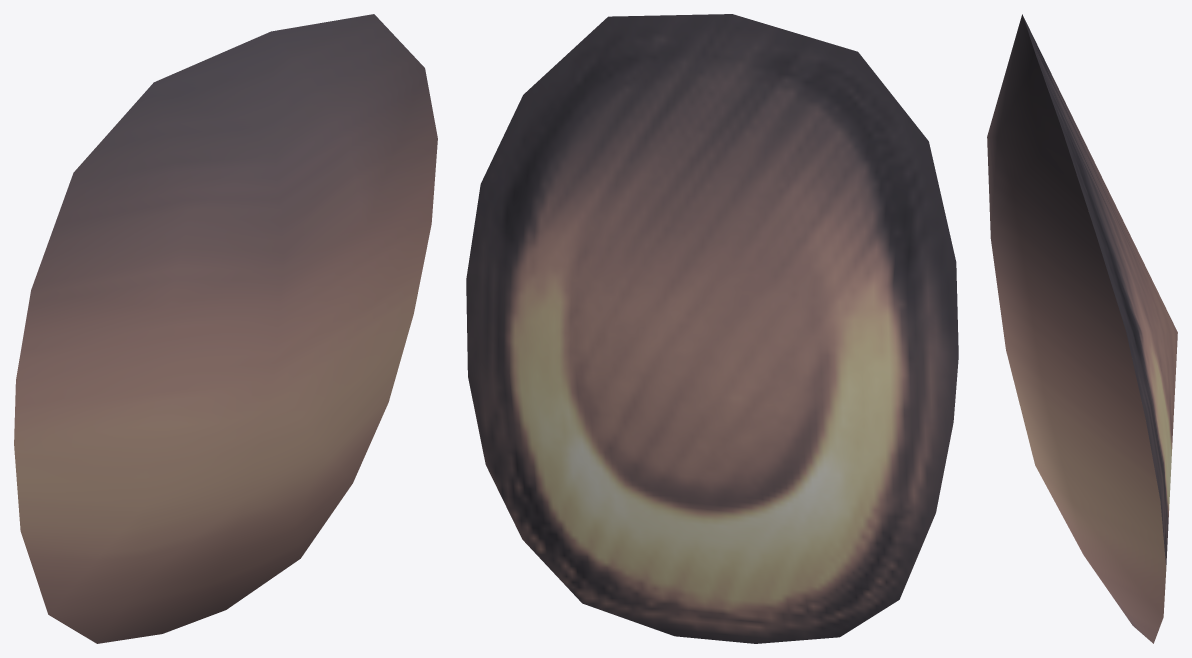
Rendered from Eye_02_L.fbx.
The picture shows the model from 3 angles, left to right: view 1: azimuth 30°, elevation 25°; view 2: azimuth 150°, elevation 25°; view 3: azimuth 270°, elevation 25°; orthographic projection. The views are drawn at different scales.
Parts seen in each view (by area): view 1: Eye_02_L_Cover; view 2: Eye_02_L; view 3: Eye_02_L_Cover, Eye_02_L.
Part boxes in pixels (x1=…): Eye_02_L_Cover: x1=14, y1=14, x2=437, y2=643; Eye_02_L: x1=466, y1=14, x2=958, y2=643; Eye_02_L_Cover: x1=987, y1=14, x2=1166, y2=643; Eye_02_L: x1=1022, y1=15, x2=1177, y2=567.
Size of the model in its own units: 5.17 by 6.55 by 2.
Materials: 1 (1 with a texture image).
